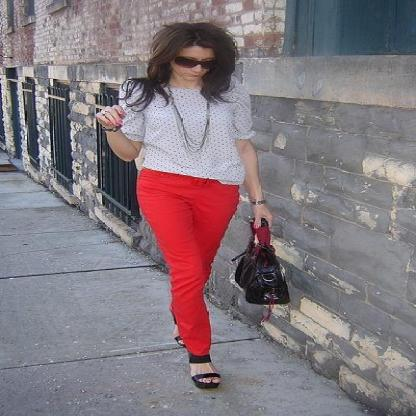bag: (234, 217, 289, 305)
pants: (136, 169, 239, 357)
shirt: (115, 84, 255, 184)
shoe: (190, 358, 219, 388)
